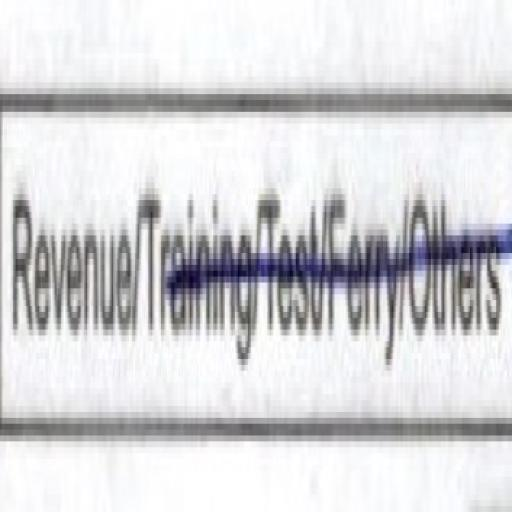check: (0, 41, 136, 453)
